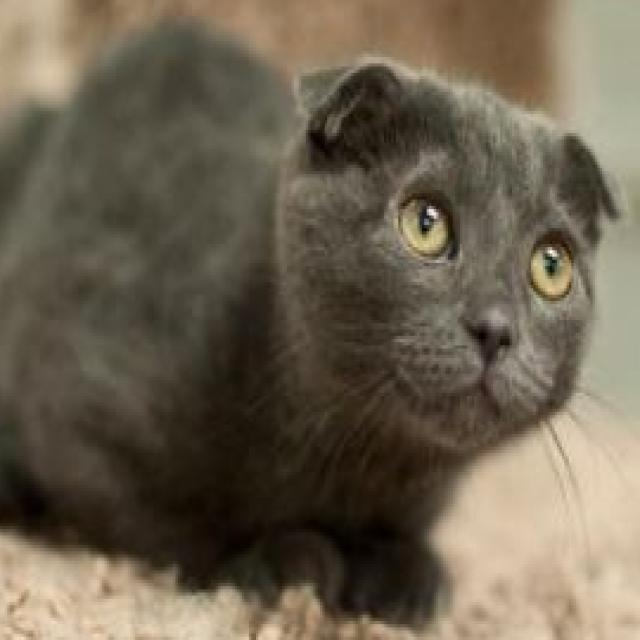Scottish Fold: (0, 6, 631, 634)
